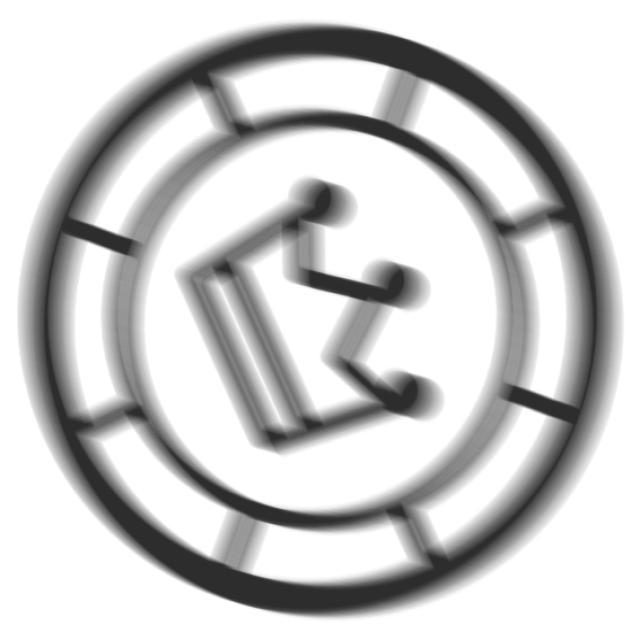coin: (15, 14, 628, 634)
